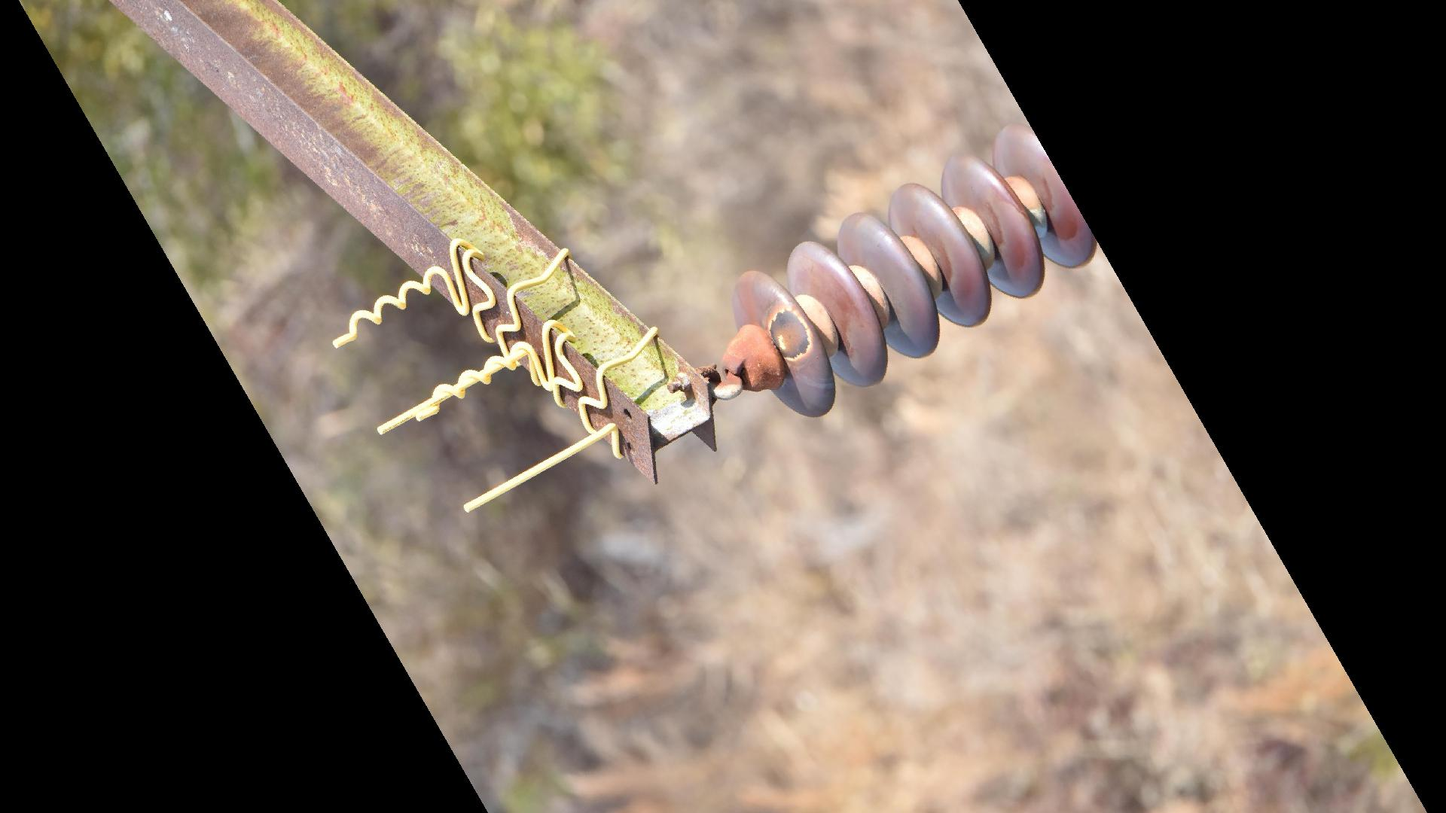insulator: (725, 119, 1101, 423)
insulator_flashover: (768, 306, 814, 364)
